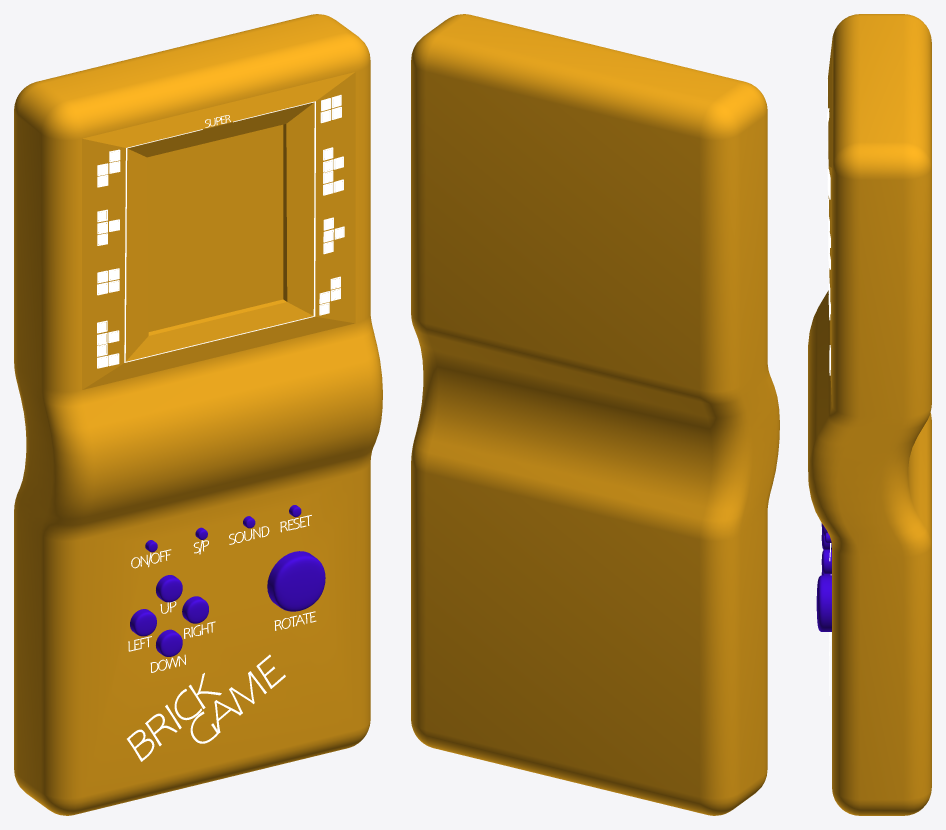
Rendered from brick-game.glb.
3 views of the same model, side by side, from view 1: azimuth 30°, elevation 25°; view 2: azimuth 150°, elevation 25°; view 3: azimuth 270°, elevation 25° (orthographic). The views are drawn at different scales.
Parts seen in each view (by area): view 1: Cylinder.003, Cube.027, rotate, Text.001, Cylinder.002; view 2: Cylinder.003; view 3: Cylinder.003, rotate, Cube.027, right.
Boxes of the visible parts, box(x1,y1,x2,y2) form: Cylinder.003: box(14, 14, 382, 815); Cube.027: box(97, 95, 344, 368); rotate: box(267, 551, 325, 611); Text.001: box(127, 654, 285, 761); Cylinder.002: box(124, 101, 315, 362); Cylinder.003: box(411, 14, 779, 815); Cylinder.003: box(808, 14, 931, 815); rotate: box(816, 575, 831, 631); Cube.027: box(827, 71, 830, 375); right: box(821, 549, 831, 574).
Bounding box in the file's own units: 3.79 × 7.93 × 1.33.
